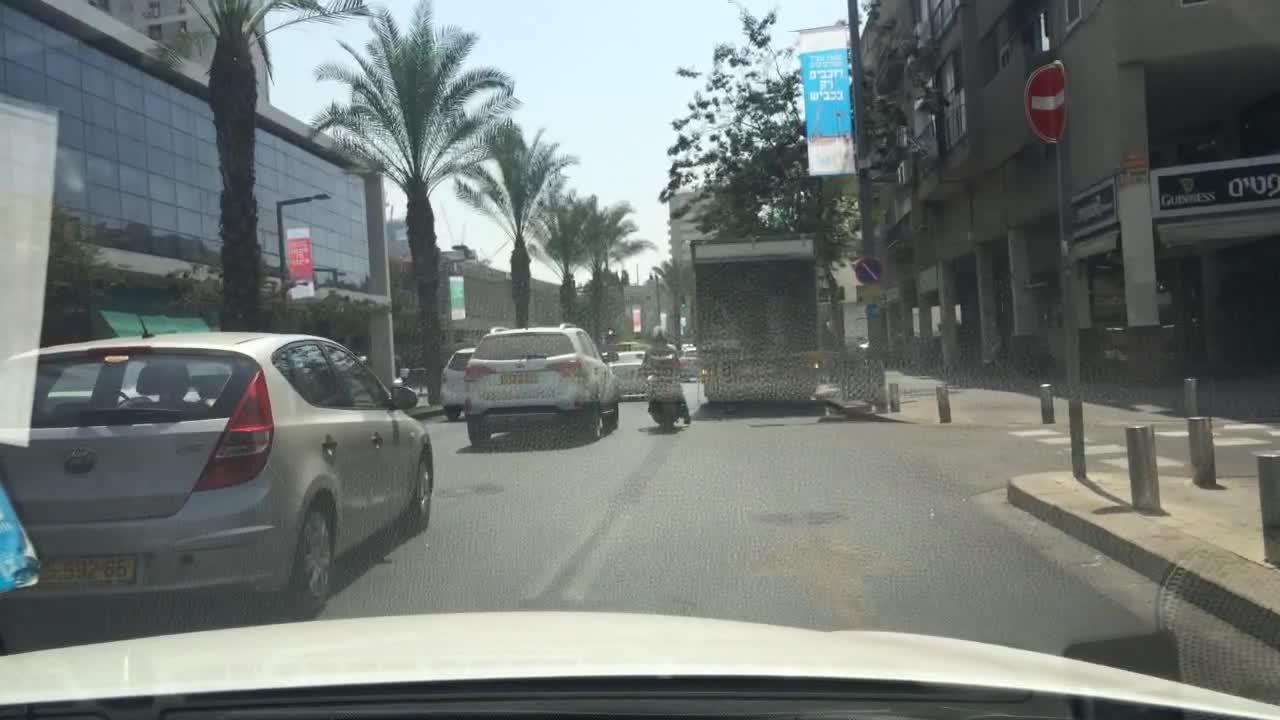Hyundai: (54, 446, 107, 477)
